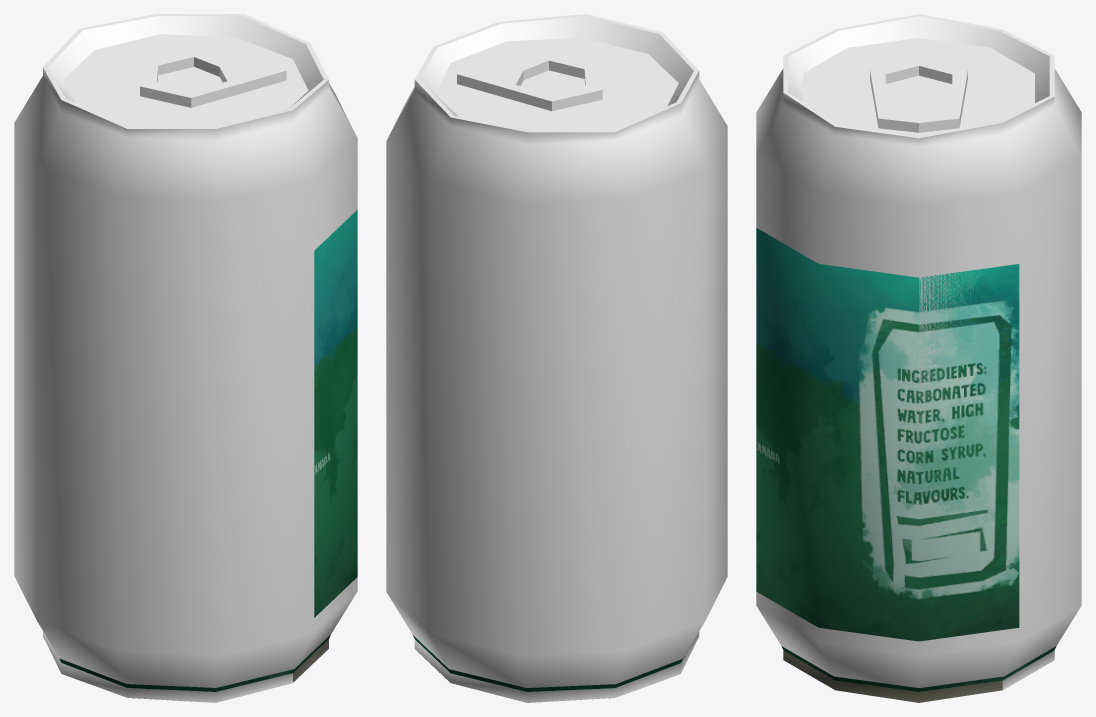
Rendered from GEAR_Soda.glb.
3 renders of one model, left to right at view 1: azimuth 30°, elevation 25°; view 2: azimuth 150°, elevation 25°; view 3: azimuth 270°, elevation 25°, orthographic.
Parts seen in each view (by area): view 1: FoodSodaCan_Old, FoodSodaCan_LOD0; view 2: FoodSodaCan_Old, FoodSodaCan_LOD0; view 3: FoodSodaCan_Old, FoodSodaCan_LOD0.
Part boxes in pixels (bbox=[...]): FoodSodaCan_Old: bbox=[14, 14, 357, 702]; FoodSodaCan_LOD0: bbox=[43, 210, 357, 701]; FoodSodaCan_Old: bbox=[386, 14, 727, 702]; FoodSodaCan_LOD0: bbox=[413, 635, 698, 701]; FoodSodaCan_Old: bbox=[756, 14, 1081, 689]; FoodSodaCan_LOD0: bbox=[756, 228, 1056, 702].
Size of what is drawn, in the model's own units: 0.0753 by 0.1382 by 0.0716.
Materials: 3 (2 with a texture image).
